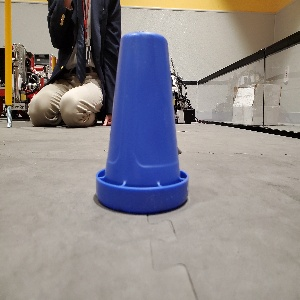Blue_1: (95, 30, 189, 215)
